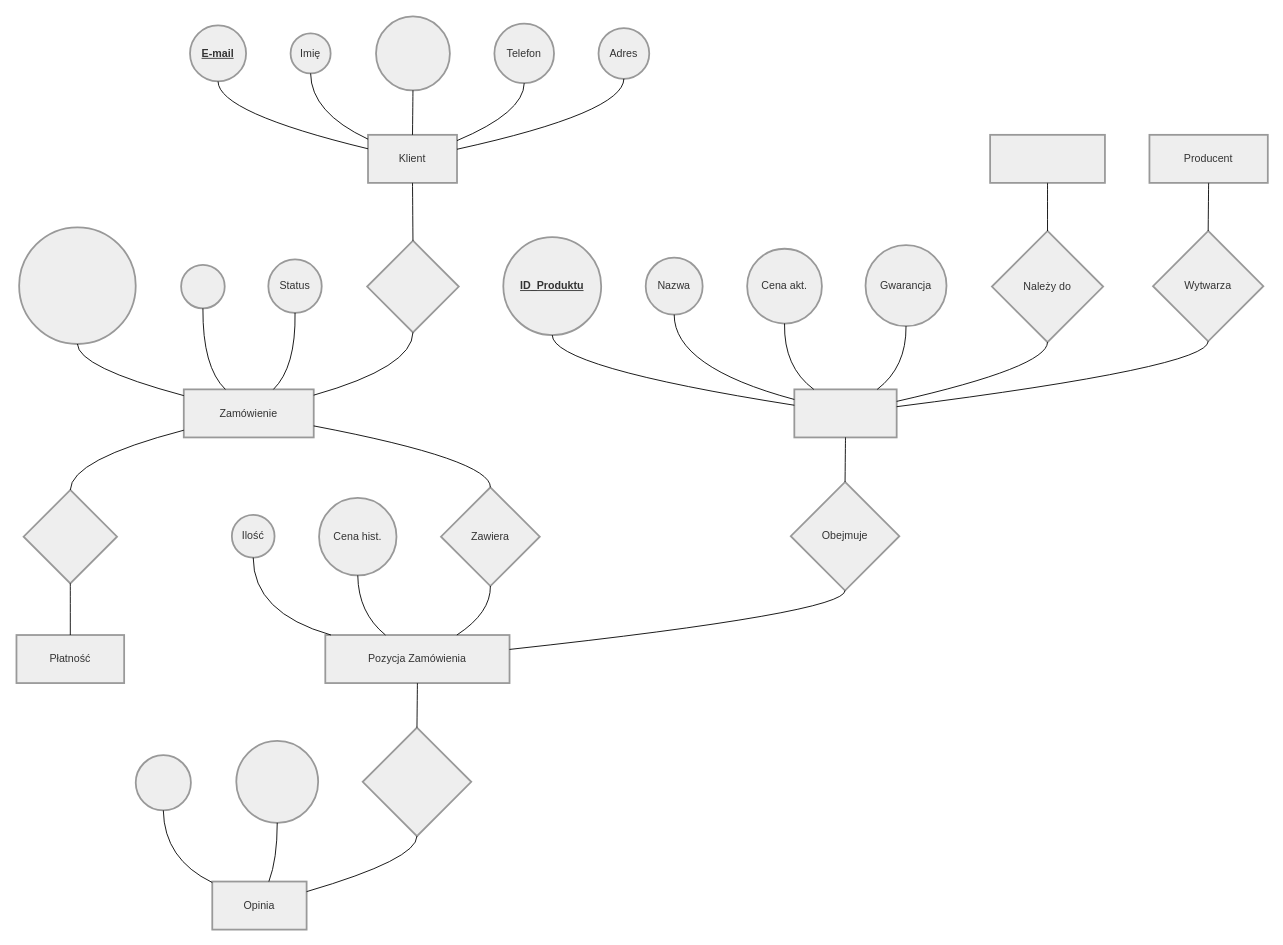
This 1283x945 diagram has some shape labels left out. Each missing label, with the box of its shape:
Data: (180, 263, 225, 309)
ID_Zamówienia: (18, 226, 136, 344)
Kategoria: (989, 134, 1105, 183)
Komentarz: (235, 740, 319, 823)
Nazwisko: (375, 15, 450, 91)
Ocena: (134, 754, 191, 811)
Opłaca: (22, 489, 117, 584)
Produkt: (793, 388, 897, 438)
Składa: (366, 239, 459, 333)
Wystawia: (361, 726, 472, 837)
